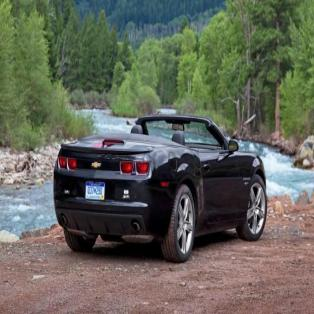Auto: (55, 114, 266, 260)
